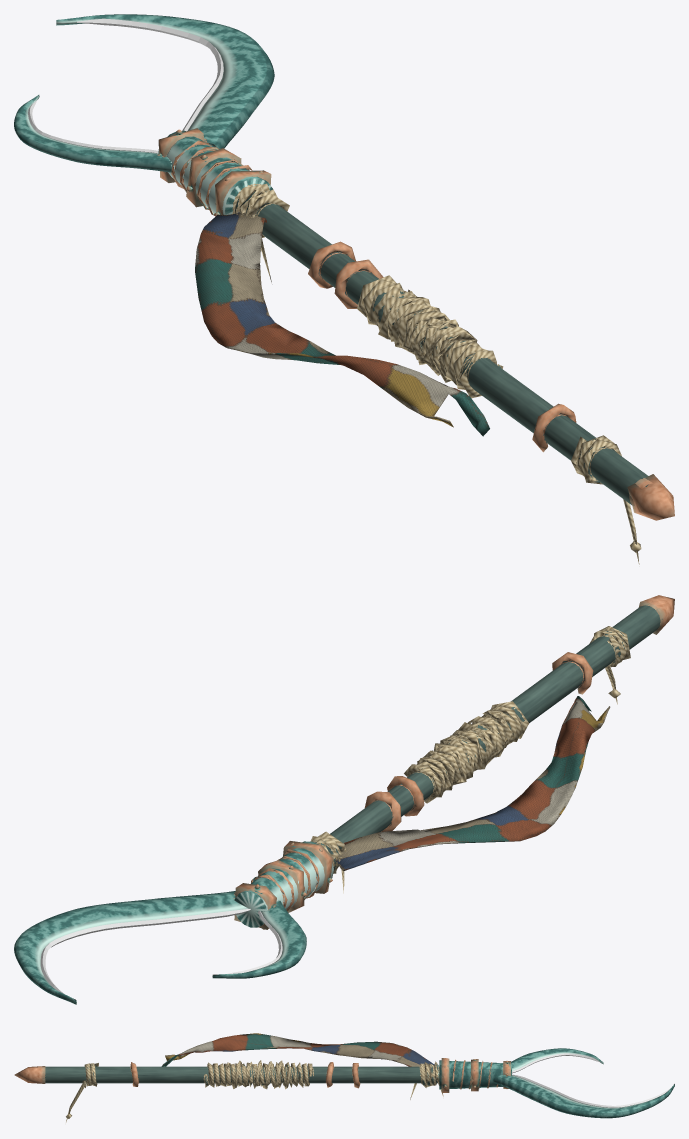
The model's file is SecretUnorthodox.fbx.
3 views of the same model, one above another, from view 1: azimuth 30°, elevation 25°; view 2: azimuth 150°, elevation 25°; view 3: azimuth 270°, elevation 25° (orthographic). The views are drawn at different scales.
Visible parts, largest first — view 1: SecretUnorthodox_Body, SecretUnorthodox_Glow_ff7418; view 2: SecretUnorthodox_Body, SecretUnorthodox_Glow_ff7418; view 3: SecretUnorthodox_Body, SecretUnorthodox_Glow_ff7418.
Boxes of the visible parts, <box> form: SecretUnorthodox_Body: <box>14,14,674,564</box>; SecretUnorthodox_Glow_ff7418: <box>28,18,223,153</box>; SecretUnorthodox_Body: <box>14,595,674,1004</box>; SecretUnorthodox_Glow_ff7418: <box>40,909,282,993</box>; SecretUnorthodox_Body: <box>14,1033,674,1122</box>; SecretUnorthodox_Glow_ff7418: <box>512,1053,669,1107</box>.
Bounding box in the file's own units: 3.01 × 1.07 × 10.62.
2 materials, 1 textured.
